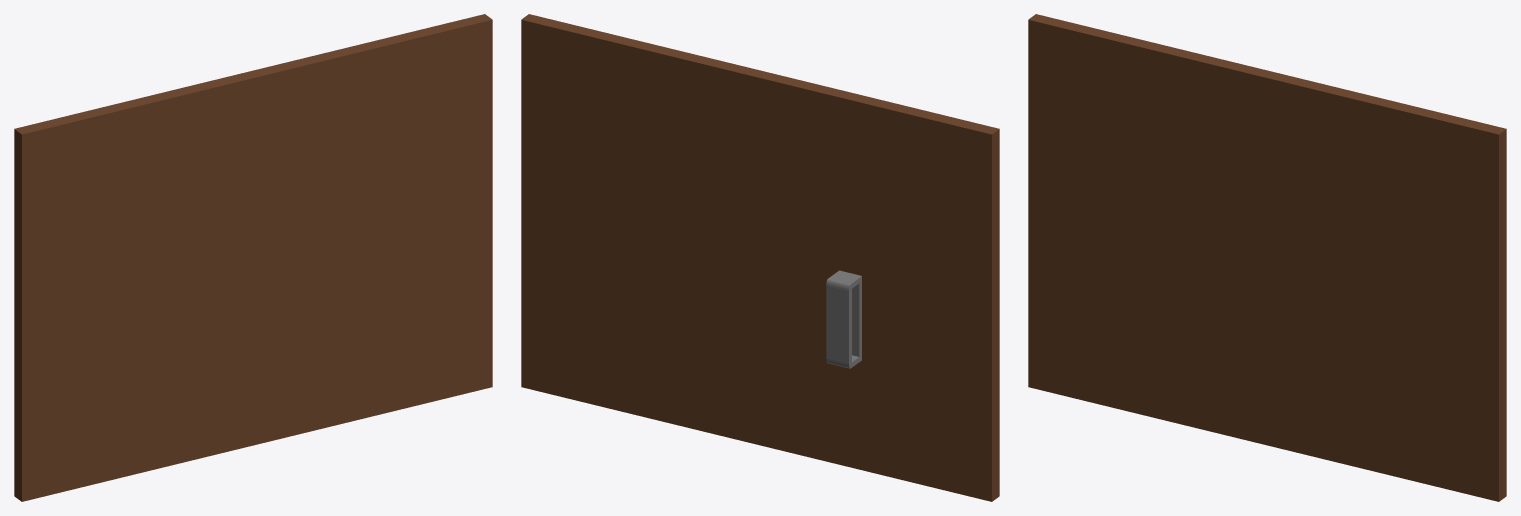
The model's file is Cabinet_Door_00.fbx.
The picture shows the model from 3 angles, left to right: view 1: azimuth 30°, elevation 25°; view 2: azimuth 150°, elevation 25°; view 3: azimuth 330°, elevation 25°; orthographic projection.
Visible parts, largest first — view 1: Cabinet Door; view 2: Cabinet Door; view 3: Cabinet Door.
Boxes of the visible parts, x1,y1,x2,y2 form: Cabinet Door: [14, 14, 492, 501]; Cabinet Door: [521, 14, 999, 501]; Cabinet Door: [1028, 14, 1506, 501].
Size of the model in its own units: 1405 by 1048 by 108.
